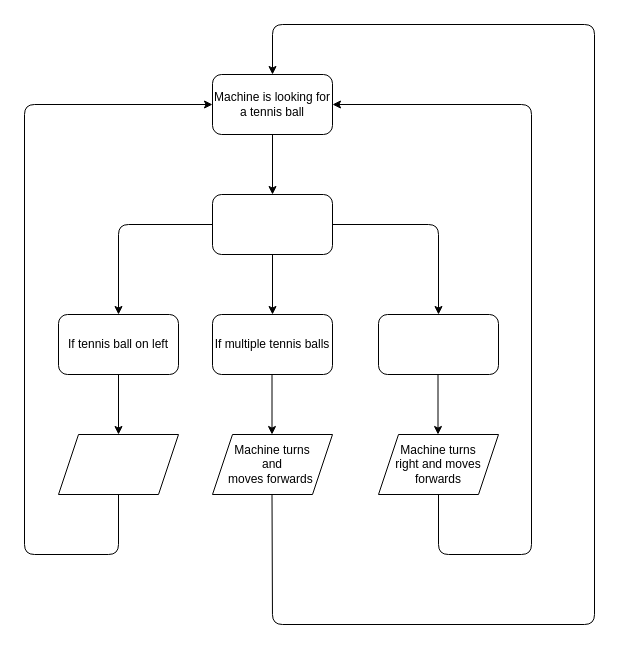
The diagram is 620 pixels wide and 650 high, and some of its shapes have lost their labels. The shapes that lost their labels are listed below. From the top down, each one's centre as x and y in pixels, then its label:
the point at 272,224: Machine Spots Tennis ball
the point at 438,344: If tennis ball on right
the point at 118,464: Machine turns left and moves forwards
